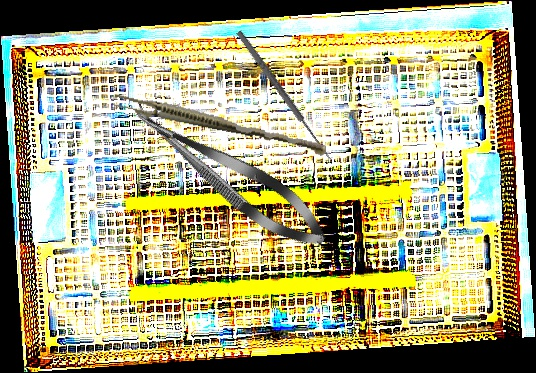Hook Surgical: (233, 25, 340, 163)
Micro Scissor: (122, 90, 337, 261)
Tissue Forceps: (111, 91, 329, 157)
